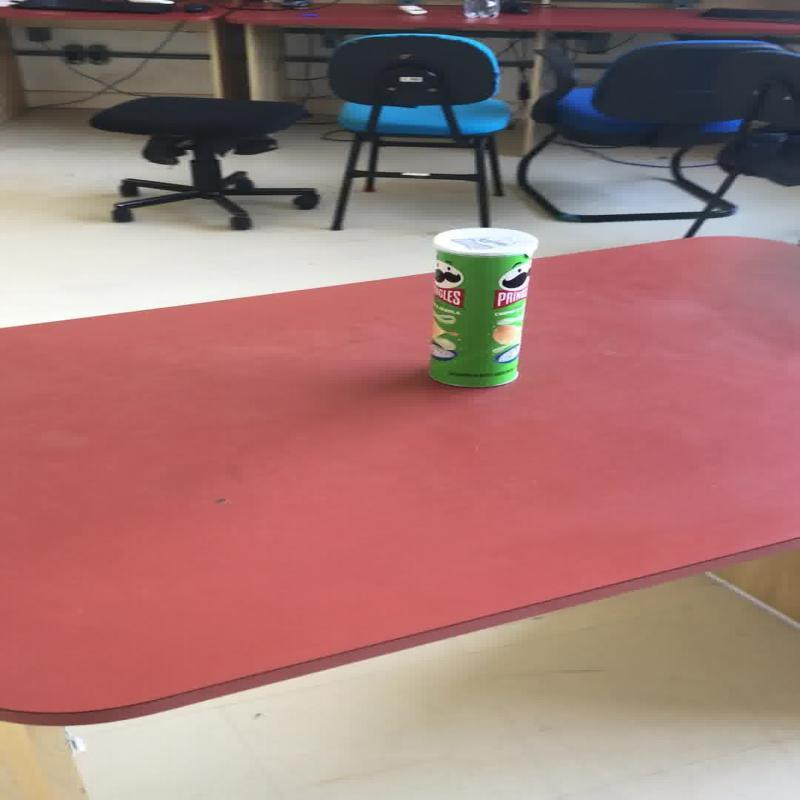pringles: (424, 226, 536, 387)
